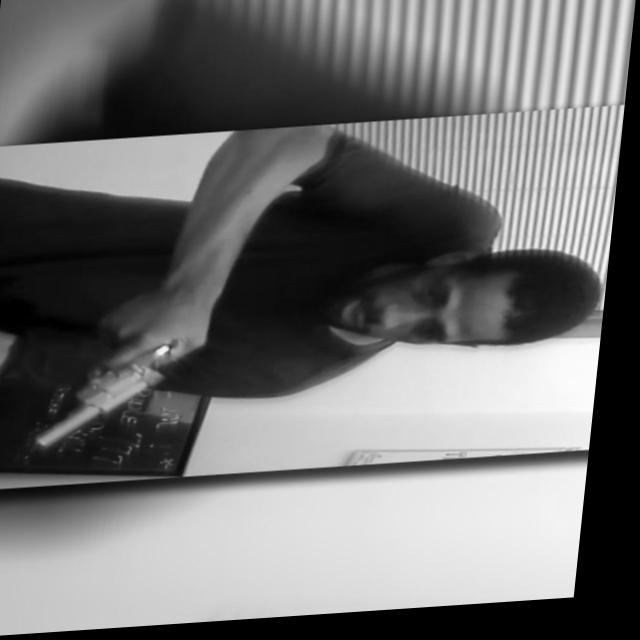handgun: (37, 333, 198, 451)
